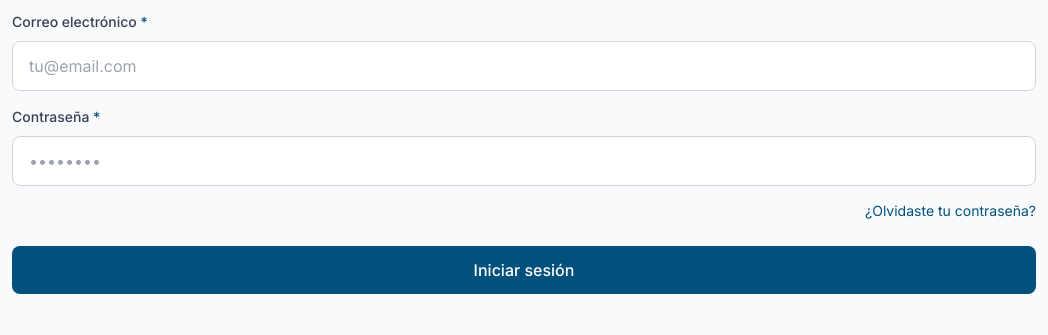
Test: LoginForm › validates email format
Type "invalid-email" into the field labelled "Correo electrónico *" at (524, 66), box [12,41,1036,91]
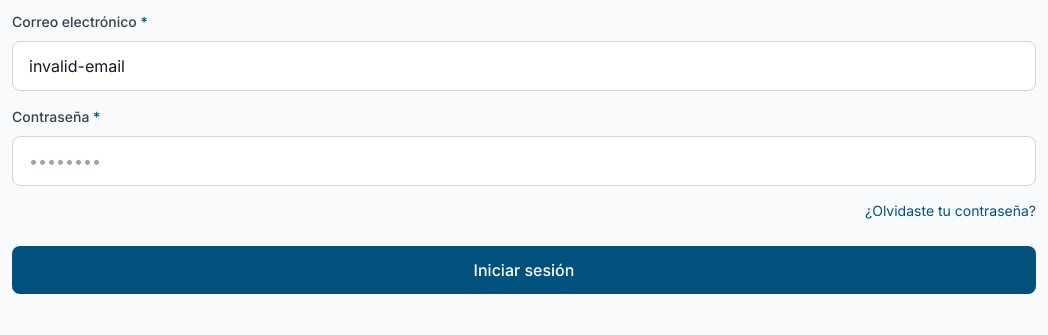
Click the button "Iniciar sesión" at (524, 270), box [12,246,1036,294]
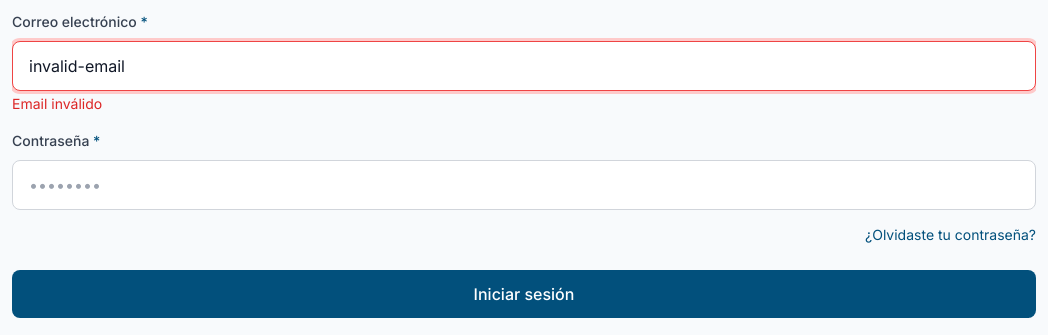
Check: the text "Email inválido" is shown, box [12,96,102,113]
